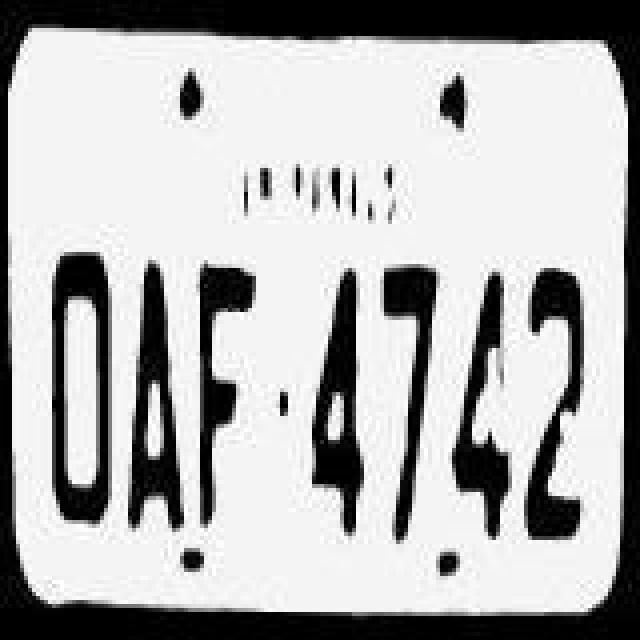2: (522, 252, 598, 544)
4: (306, 254, 382, 538), (446, 234, 514, 530)
7: (382, 242, 450, 534)
A: (128, 270, 192, 550)
F: (196, 264, 268, 548)
O: (36, 254, 124, 546)
